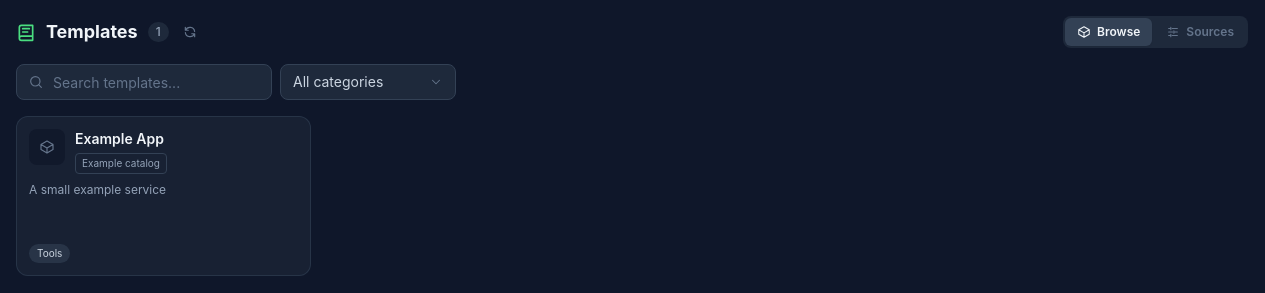
Test: TemplatesPage › shows configured catalog sources
Click the button "Sources": coordinates (1200, 32) [1154,18,1246,46]
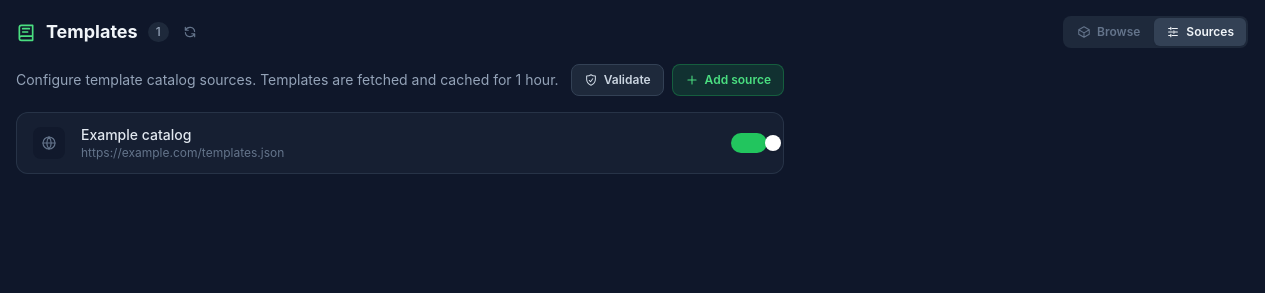
Expected: the text "Example catalog" is shown, [81,125,191,145]
Expected: the text "https://example.com/templates.json" is shown, [81,145,284,160]
